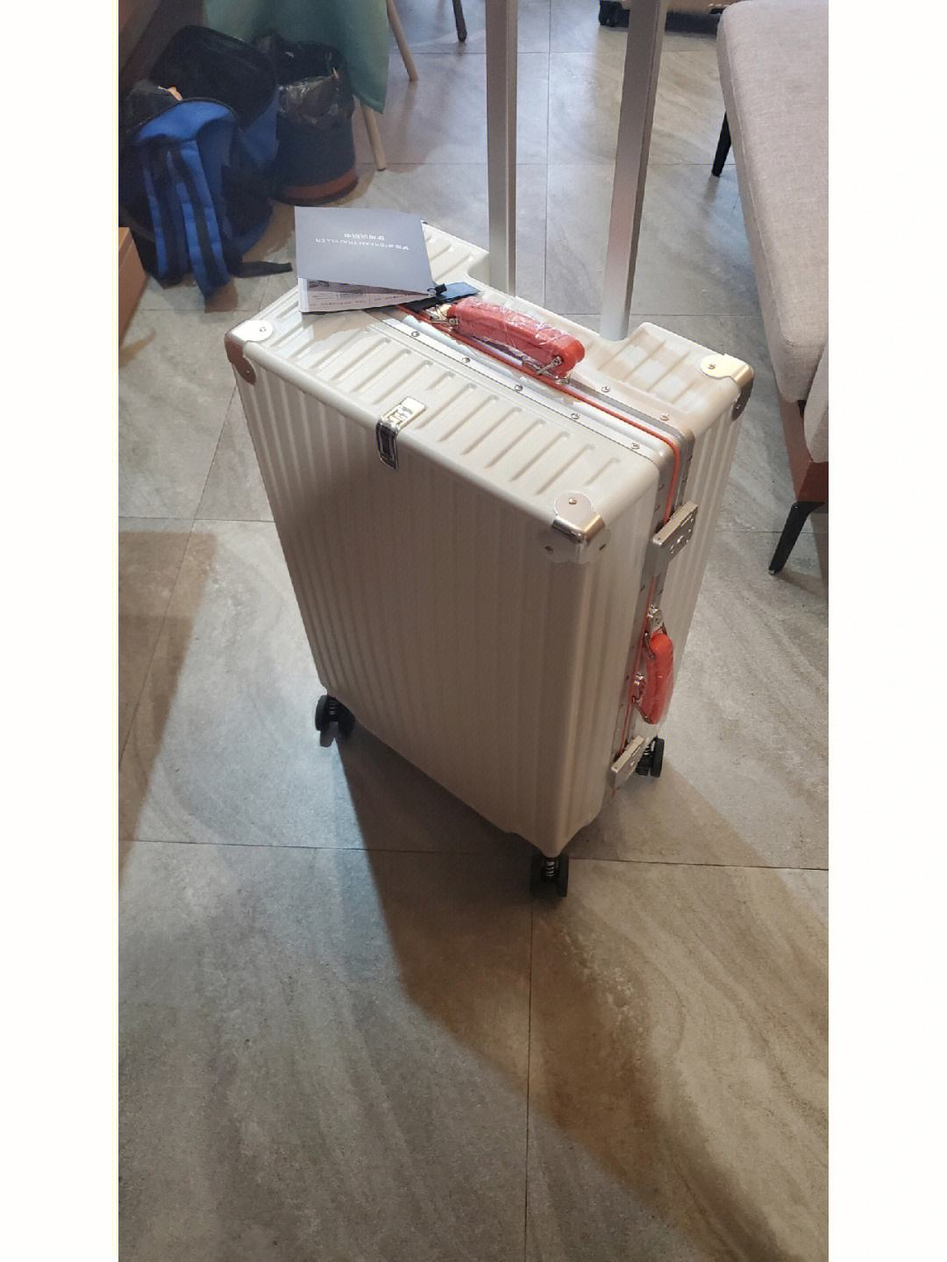box: (224, 222, 755, 856)
handle: (427, 296, 586, 381), (629, 602, 673, 726)
lock: (645, 502, 698, 581)
wheel: (529, 852, 569, 897), (315, 695, 353, 737), (635, 738, 665, 777)
